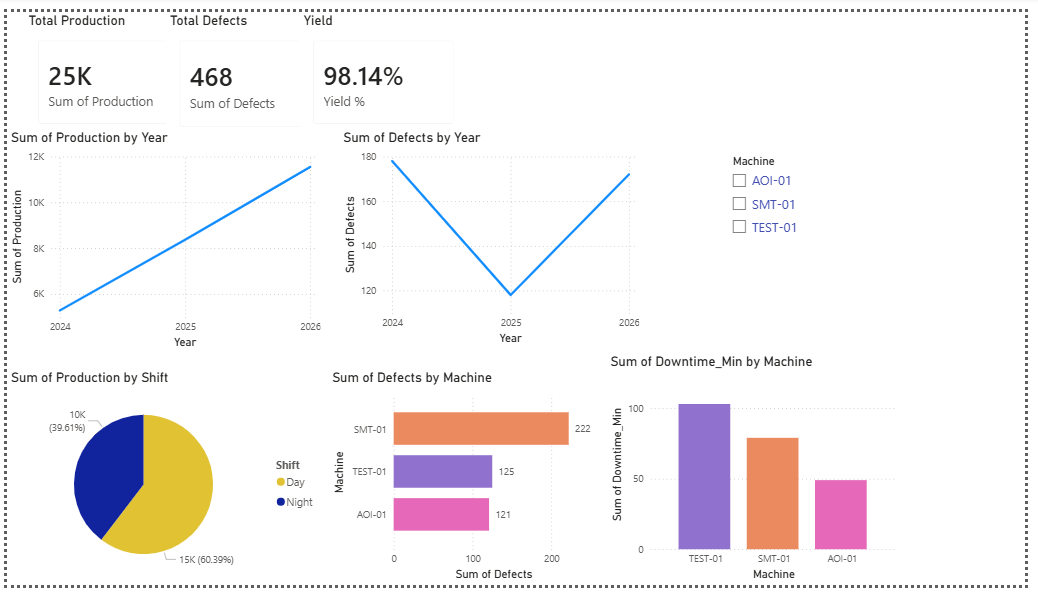

Layout of this report page (visuals, bound fields, positions):
{"tool":"powerbi","page":{"name":"Page 1","canvas":[1280,720],"ordinal":0},"visuals":[{"type":"cardVisual","title":"Total Production","fields":{"Data":["Sum(Data Jun.Production)"]},"box":[22.2,0,204.8,158.7],"z":0},{"type":"cardVisual","title":"Total Defects","fields":{"Data":["Sum(Data Jun.Defects)"]},"box":[199.7,0,187.7,162.1],"z":1000},{"type":"cardVisual","title":"Yield","fields":{"Data":["Data Jun.Yield %"]},"box":[368.6,0,211.6,158.7],"z":2000},{"type":"lineChart","fields":{"Category":["Data Jun.Date.Variation.Date Hierarchy.Year","Data Jun.Date.Variation.Date Hierarchy.Quarter","Data Jun.Date.Variation.Date Hierarchy.Month","Data Jun.Date.Variation.Date Hierarchy.Day"],"Y":["Sum(Data Jun.Production)"]},"box":[0,148.5,399.3,279.9],"z":3000},{"type":"clusteredBarChart","fields":{"Category":["Data Jun.Machine"],"Y":["Sum(Data Jun.Defects)"]},"box":[404.4,450.5,349.8,269.6],"z":4000},{"type":"columnChart","fields":{"Category":["Data Jun.Machine"],"Y":["Sum(Data Jun.Downtime_Min)"]},"box":[754.2,430,370.3,290.1],"z":5000},{"type":"pieChart","fields":{"Category":["Data Jun.Shift"],"Y":["Sum(Data Jun.Production)"]},"box":[0,450.5,399.3,269.6],"z":6000},{"type":"slicer","fields":{"Values":["Data Jun.Machine"]},"box":[899.3,174.1,201.4,150.2],"z":7000},{"type":"lineChart","fields":{"Category":["Data Jun.Date.Variation.Date Hierarchy.Year","Data Jun.Date.Variation.Date Hierarchy.Quarter","Data Jun.Date.Variation.Date Hierarchy.Month","Data Jun.Date.Variation.Date Hierarchy.Day"],"Y":["Sum(Data Jun.Defects)"]},"box":[418.1,148.5,382.2,274.7],"z":8000}]}

Visuals, with their boxes on the page's 1280x720 design canvas (x1, y1, x2, y2). These are canvas units, not pixel positions in the 1038x602 screenshot, which may show the page scaled, cropped or inside an application window:
"Total Production" cardVisual: 22,0,227,159
"Total Defects" cardVisual: 200,0,387,162
"Yield" cardVisual: 369,0,580,159
lineChart - Data Jun.Date.Variation.Date Hierarchy.Year x Data Jun.Date.Variation.Date Hierarchy.Quarter: 0,148,399,428
clusteredBarChart - Data Jun.Machine x Sum(Data Jun.Defects): 404,450,754,720
columnChart - Data Jun.Machine x Sum(Data Jun.Downtime_Min): 754,430,1124,720
pieChart - Data Jun.Shift x Sum(Data Jun.Production): 0,450,399,720
slicer - Data Jun.Machine: 899,174,1101,324
lineChart - Data Jun.Date.Variation.Date Hierarchy.Year x Data Jun.Date.Variation.Date Hierarchy.Quarter: 418,148,800,423
